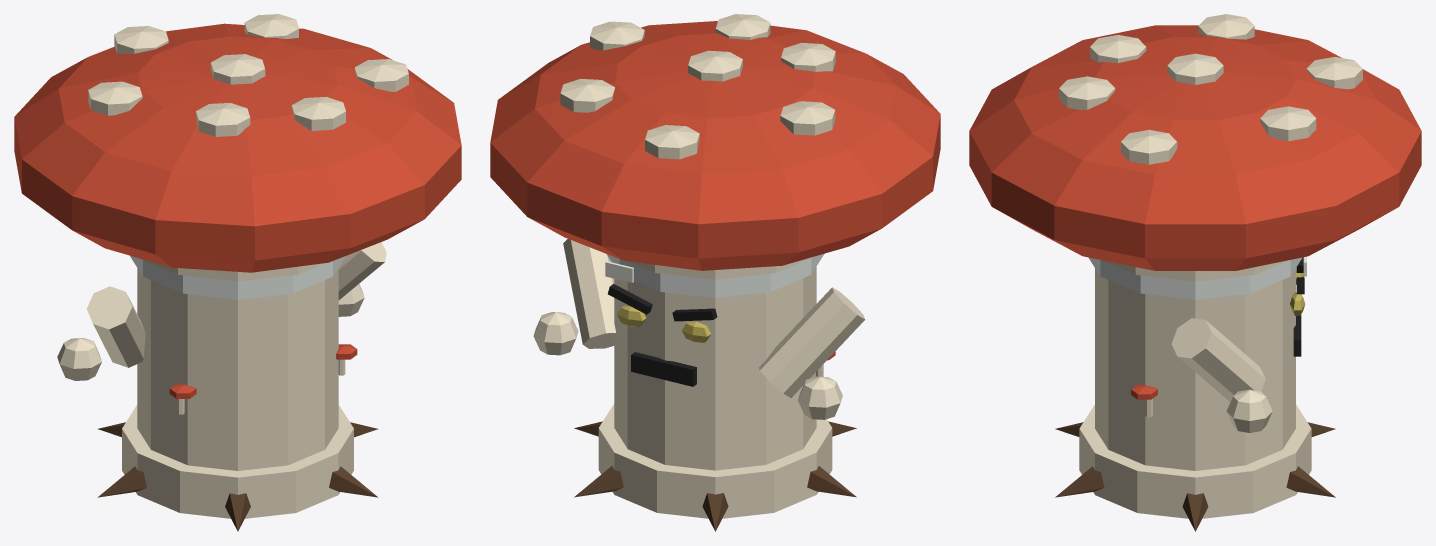
File: boss_mushroom_man.glb
3 renders of one model, left to right at view 1: azimuth 30°, elevation 25°; view 2: azimuth 150°, elevation 25°; view 3: azimuth 270°, elevation 25°, orthographic.
Parts seen in each view (by area): view 1: boss_mushroom_man; view 2: boss_mushroom_man; view 3: boss_mushroom_man.
Part boxes in pixels (x1=…): boss_mushroom_man: x1=14, y1=14, x2=461, y2=531; boss_mushroom_man: x1=490, y1=14, x2=940, y2=531; boss_mushroom_man: x1=969, y1=14, x2=1421, y2=531.
Size of the model in its own units: 2.85 by 2.93 by 2.92.
1 material, 1 textured.
